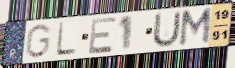1: (116, 14, 132, 53)
E: (88, 15, 119, 56)
G: (24, 23, 53, 59)
L: (54, 21, 78, 57)
M: (177, 6, 214, 49)
U: (150, 10, 183, 50)
